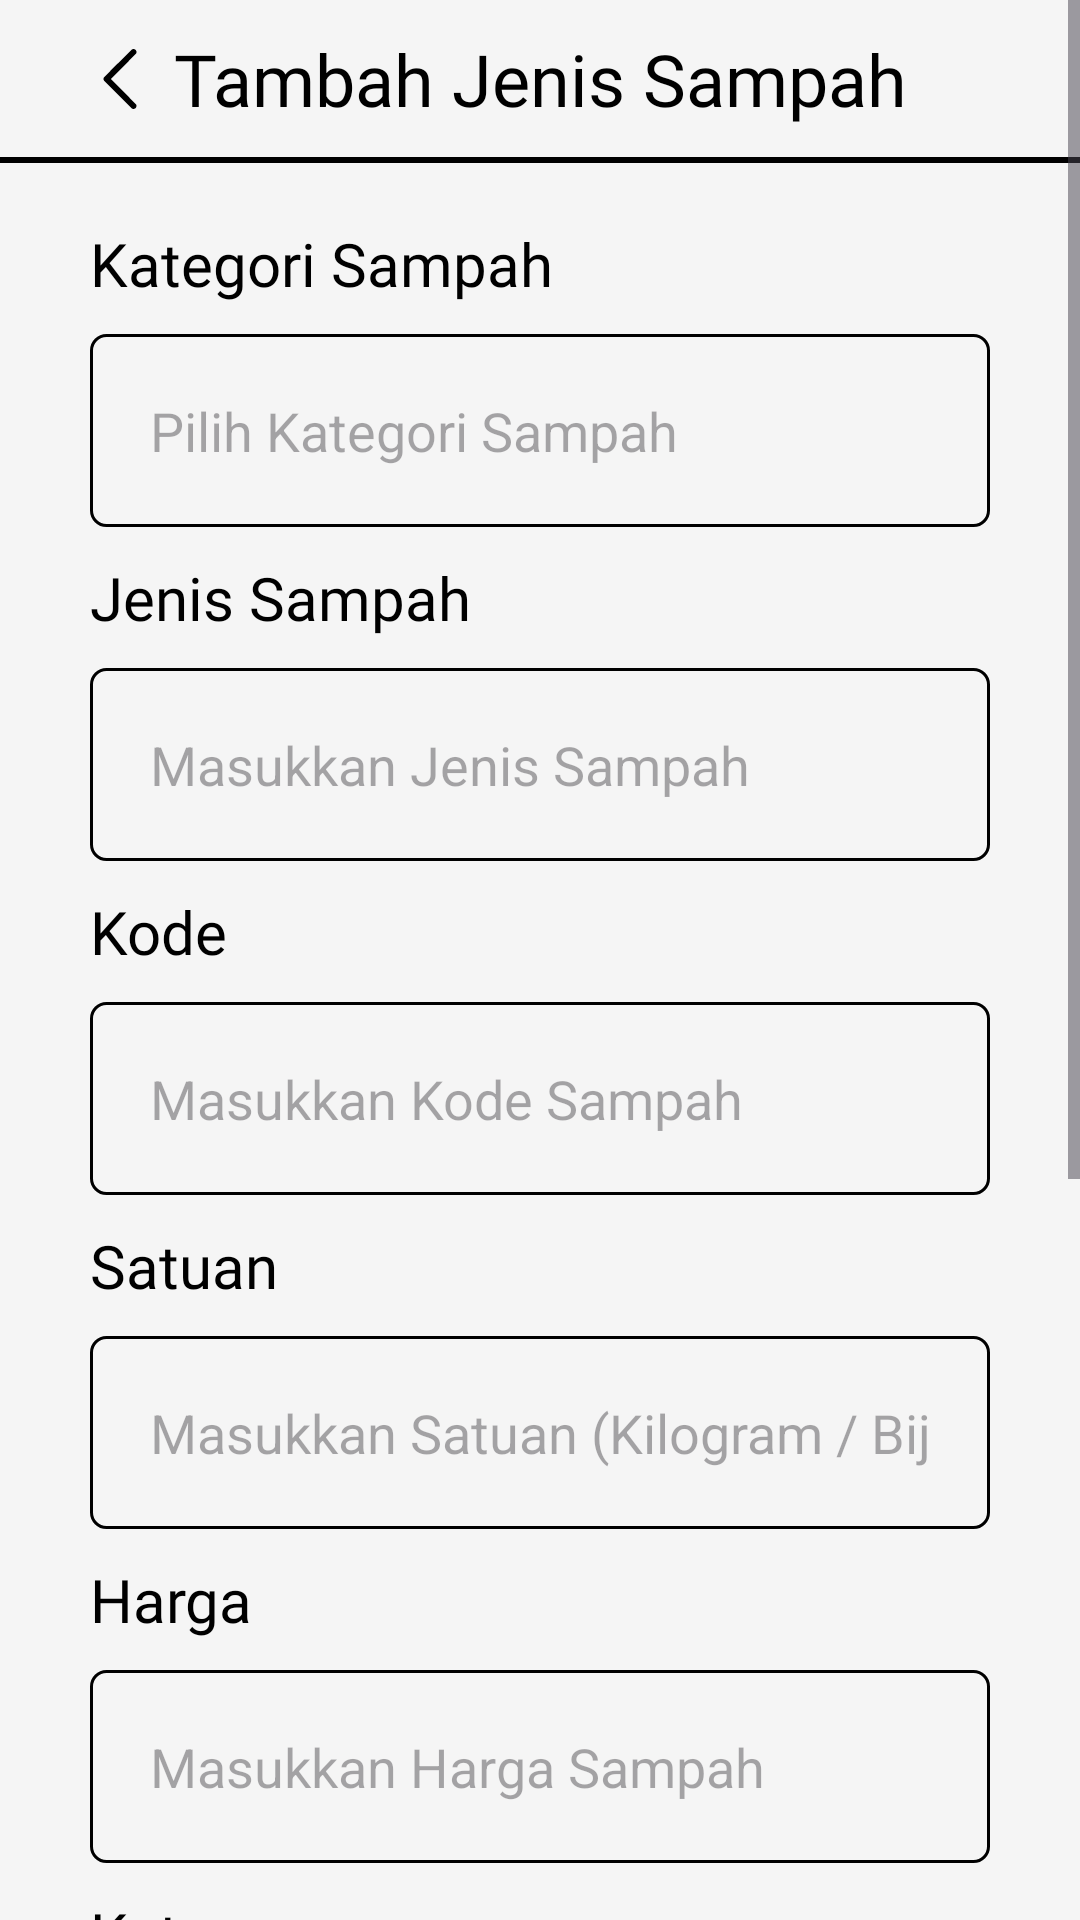

Where to tap for icons on this 1080*1920 app screen, as point (x, y):
back: point (120, 79)
